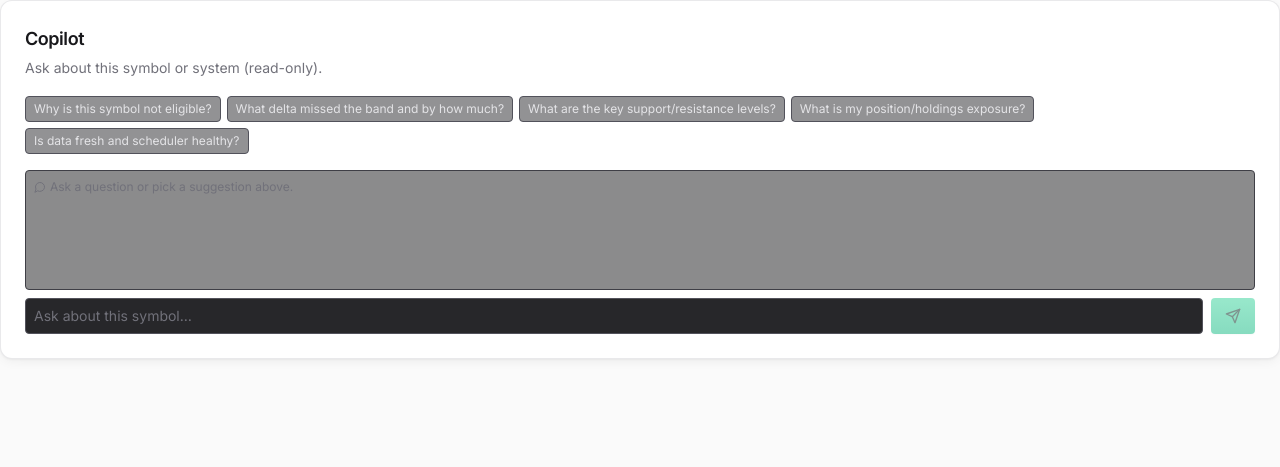
Scenario: CopilotPanel R23.4 › R23.4.1: shows Copilot unavailable banner and fix text when API returns error_code COPILOT_AUTH_FAILED
What coordinates should you click on to do the following:
click the button "Why is this symbol not eligible?"
I would click on:
 (123, 109)
Its box is x1=25 y1=96 x2=221 y2=122.
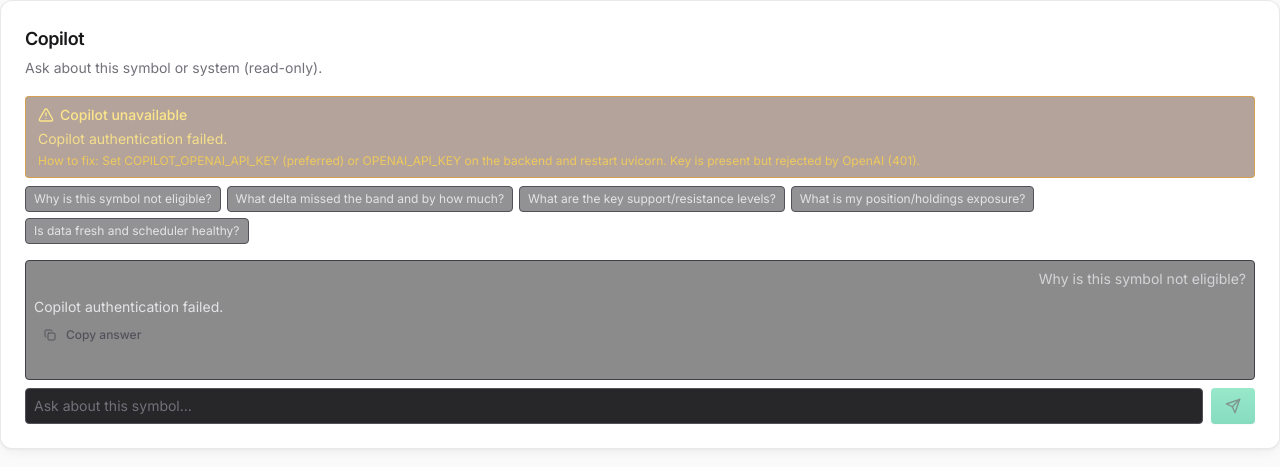
Result: the message shows "Copilot unavailable" at x1=60 y1=106 x2=187 y2=123
Result: the message shows "Copilot authentication failed" at x1=38 y1=130 x2=227 y2=147
Result: the message shows "COPILOT_OPENAI_API_KEY (preferred) or OPENAI_API_KEY" at x1=102 y1=153 x2=920 y2=168
